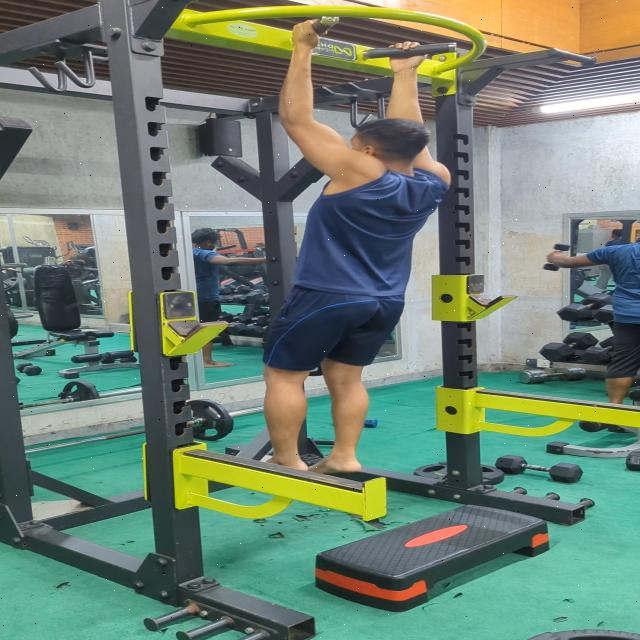Normal_PullUps: (256, 19, 459, 478)
